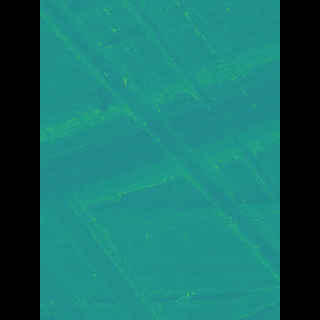Loch: (69, 0, 250, 290), (68, 154, 168, 320)
